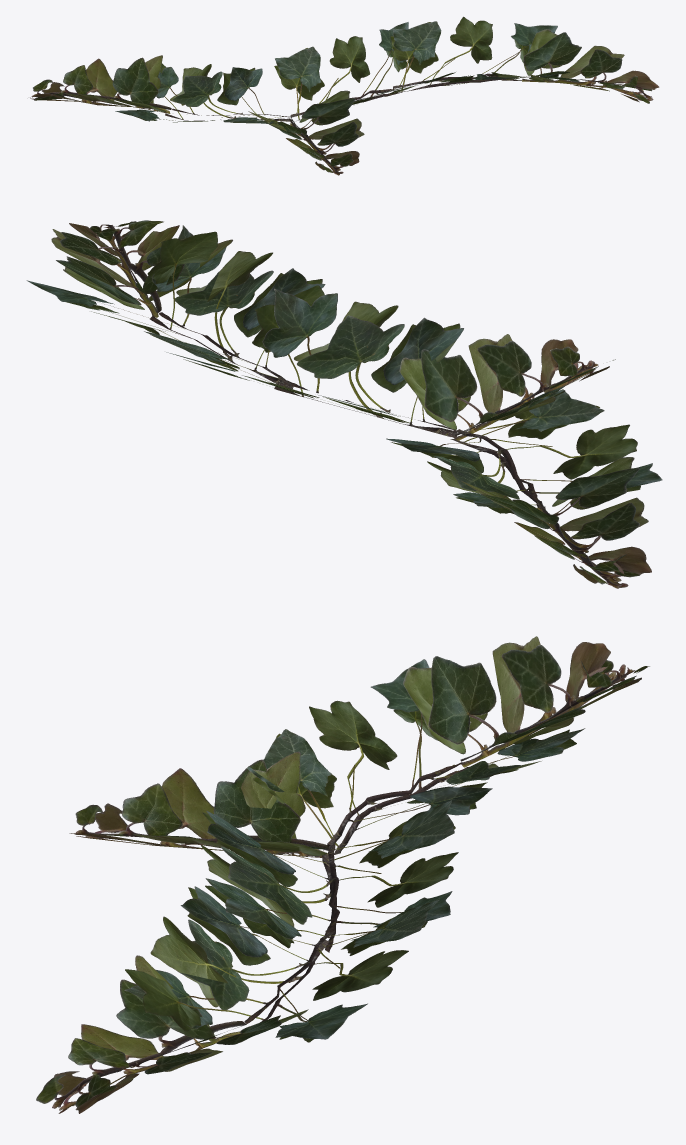
The model's file is stumbletwine_05.fbx.
The picture shows the model from 3 angles, top to bottom: view 1: azimuth 30°, elevation 25°; view 2: azimuth 150°, elevation 25°; view 3: azimuth 270°, elevation 25°; orthographic projection. The views are drawn at different scales.
Visible parts, largest first — view 1: stumbletwine_05; view 2: stumbletwine_05; view 3: stumbletwine_05.
Part boxes in pixels (x1=…): stumbletwine_05: x1=30, y1=16, x2=659, y2=175; stumbletwine_05: x1=26, y1=220, x2=662, y2=588; stumbletwine_05: x1=36, y1=636, x2=649, y2=1113.
Bounding box in the file's own units: 49.62 × 84.07 × 7.38.
